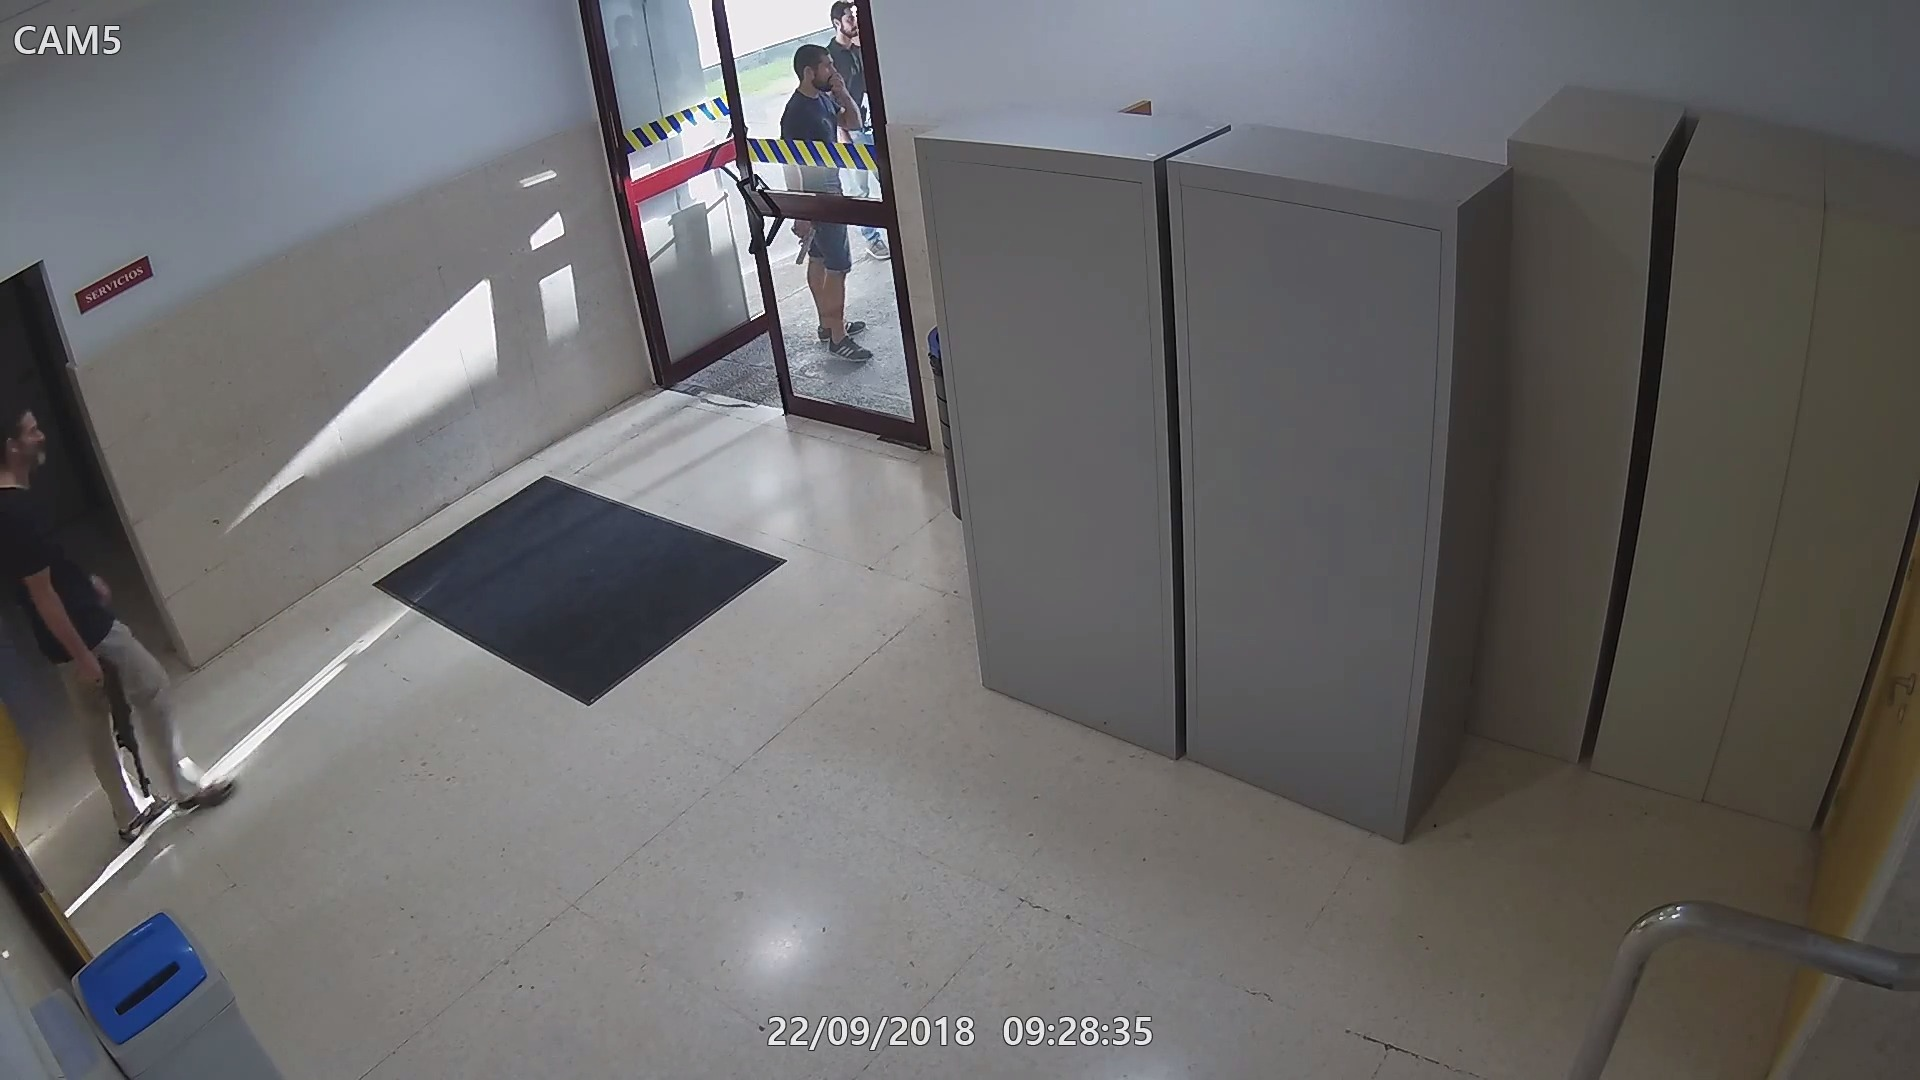Handgun: (790, 222, 818, 266)
Short_rifle: (73, 644, 156, 802)
